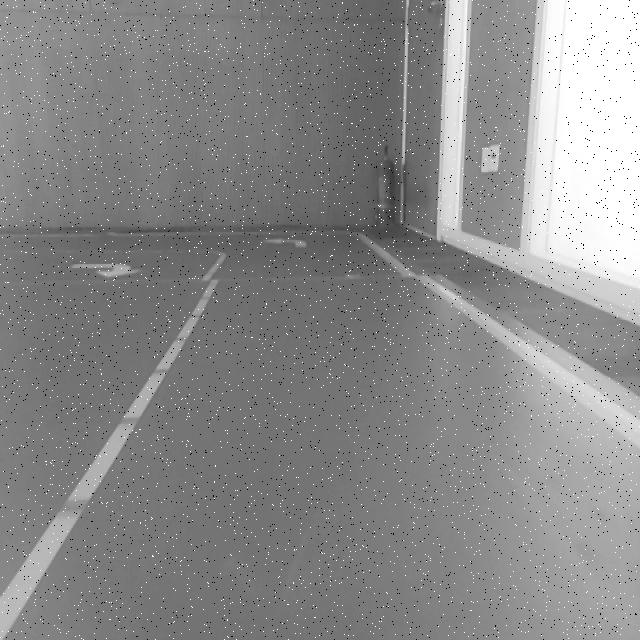left_lane: (1, 252, 227, 635)
right_lane: (361, 236, 639, 448)
